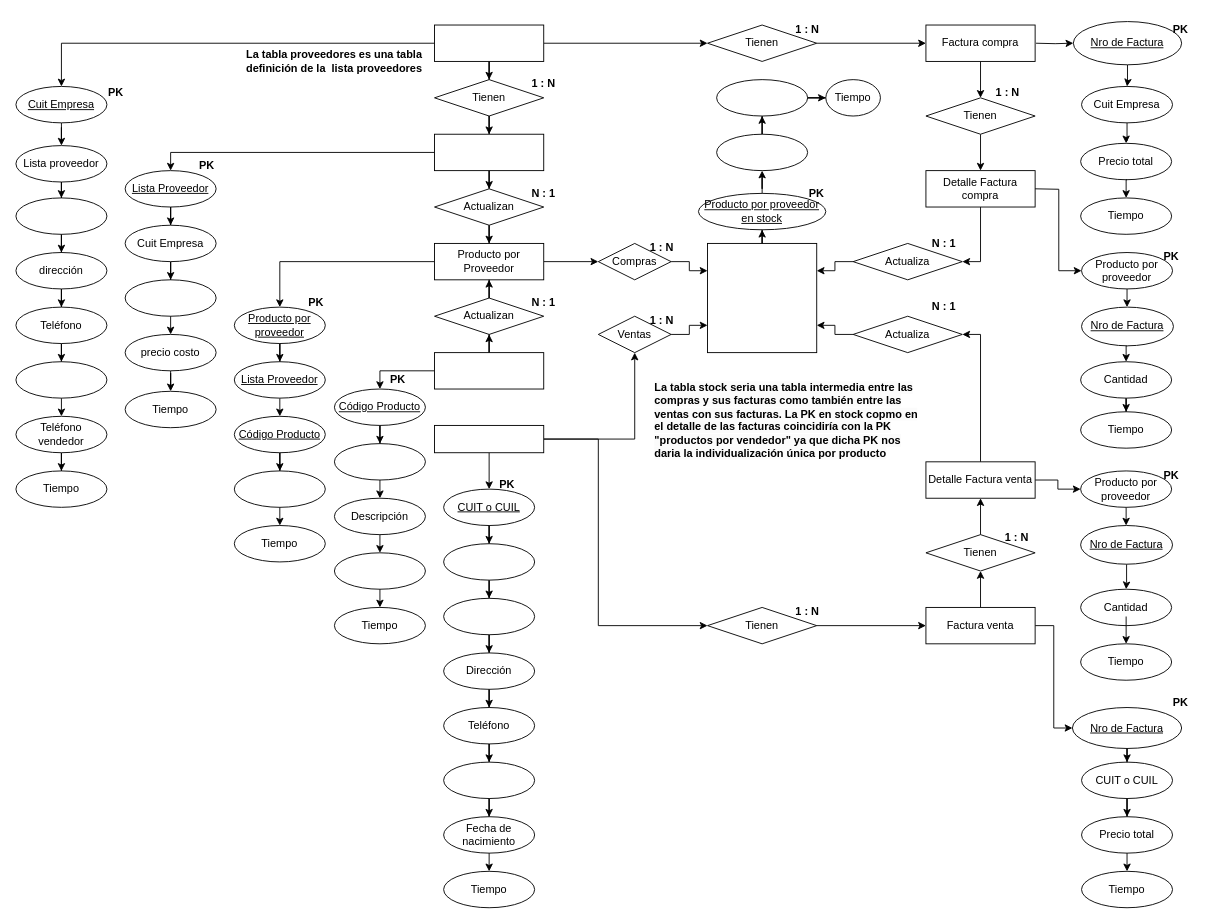
Image size: 1224x924. Some labels were removed from this diagram. The shapes that lost their labels are listed below. From the top down, each one's centre as x and y in pixels, then its label:
(x=489, y=42): Proveedores
(x=762, y=97): Cantidad disponible
(x=489, y=152): Listas Proveedores
(x=762, y=152): precio venta
(x=61, y=215): Nombre Empresa
(x=170, y=297): Codigo Producto
(x=762, y=298): Stock
(x=61, y=379): Nombre Vendedor
(x=489, y=370): Descripción Productos
(x=489, y=439): Clientes
(x=379, y=461): Nombre producto
(x=279, y=488): valor costo
(x=379, y=570): presentación
(x=489, y=561): Apellido
(x=489, y=616): Nombre
(x=489, y=780): Condición tributaria
